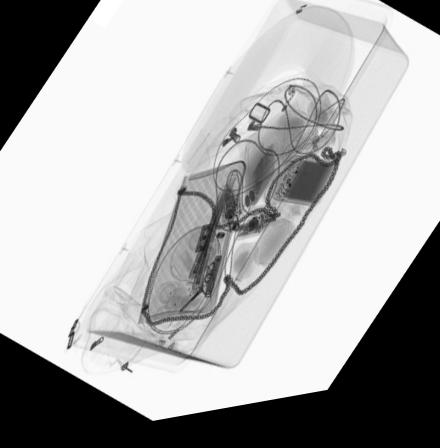Powerbank: (268, 164, 334, 216)
